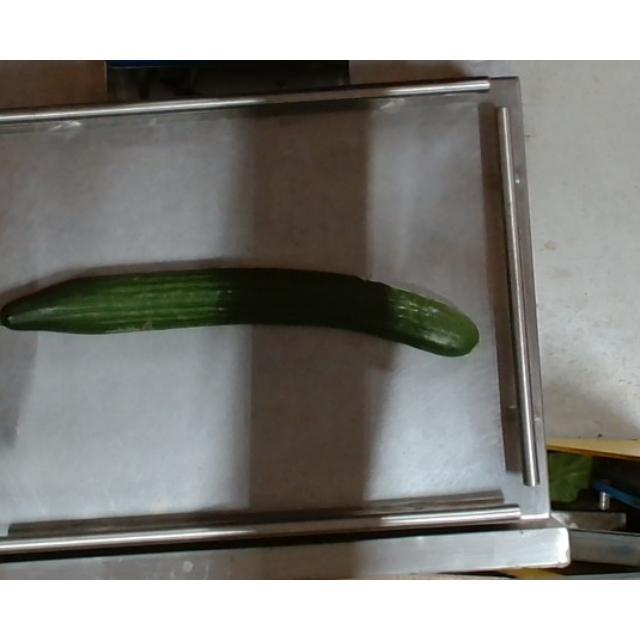cucumber: (4, 264, 478, 362)
